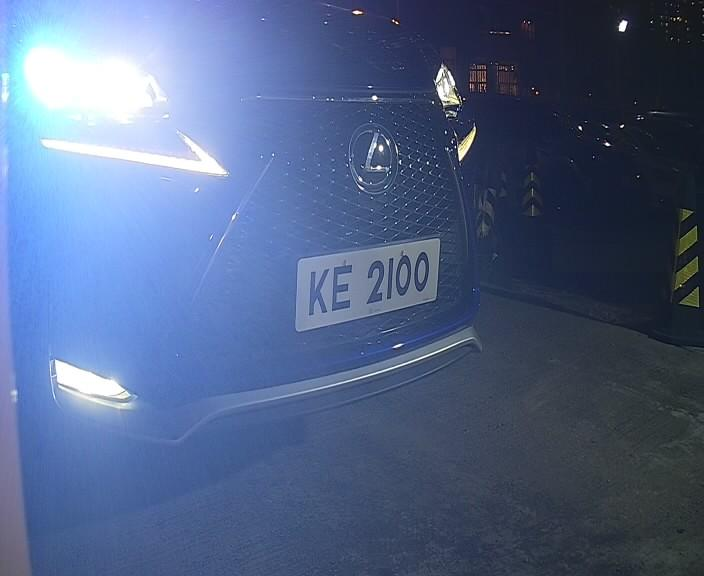License Plate: (278, 228, 449, 351)
